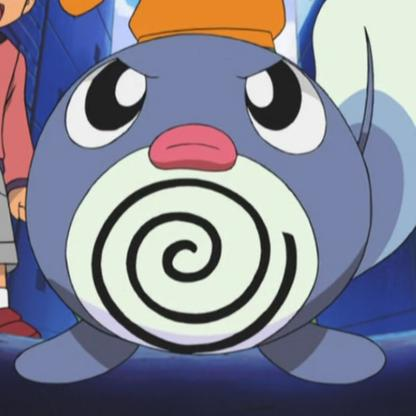Poliwag: (28, 46, 399, 390)
